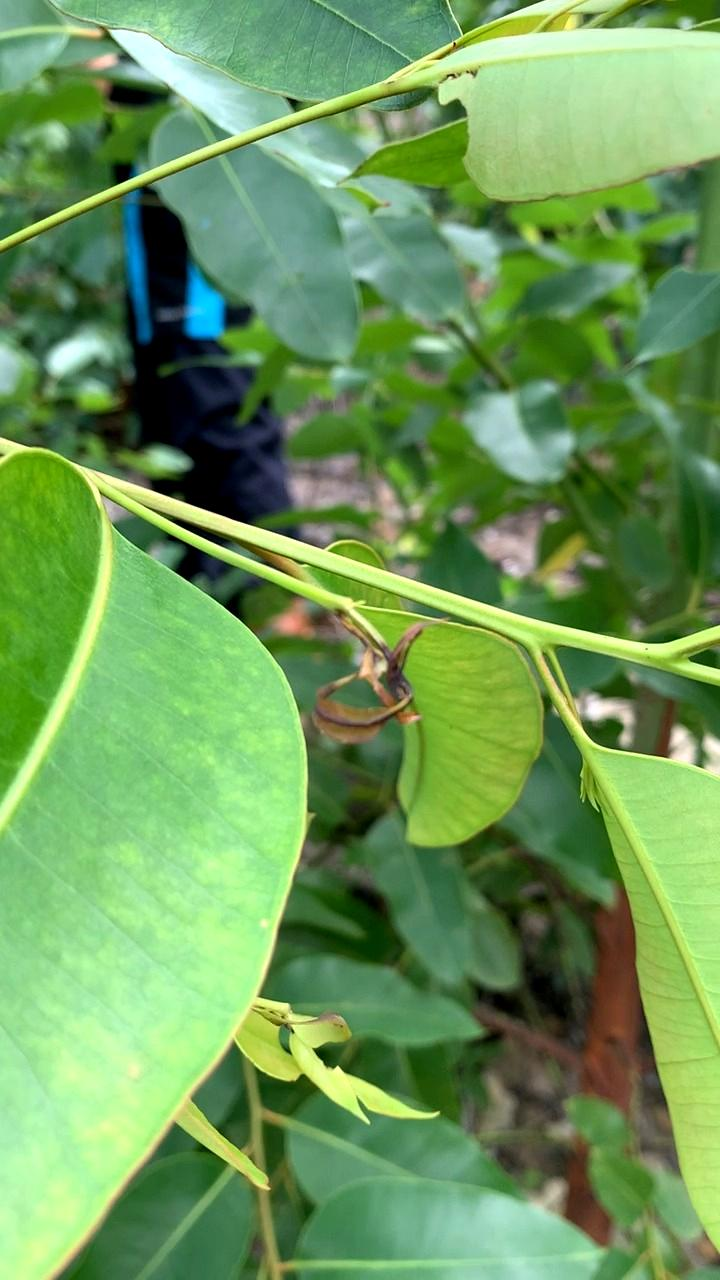Helopeltis-Withered Sprout: (296, 580, 447, 787)
